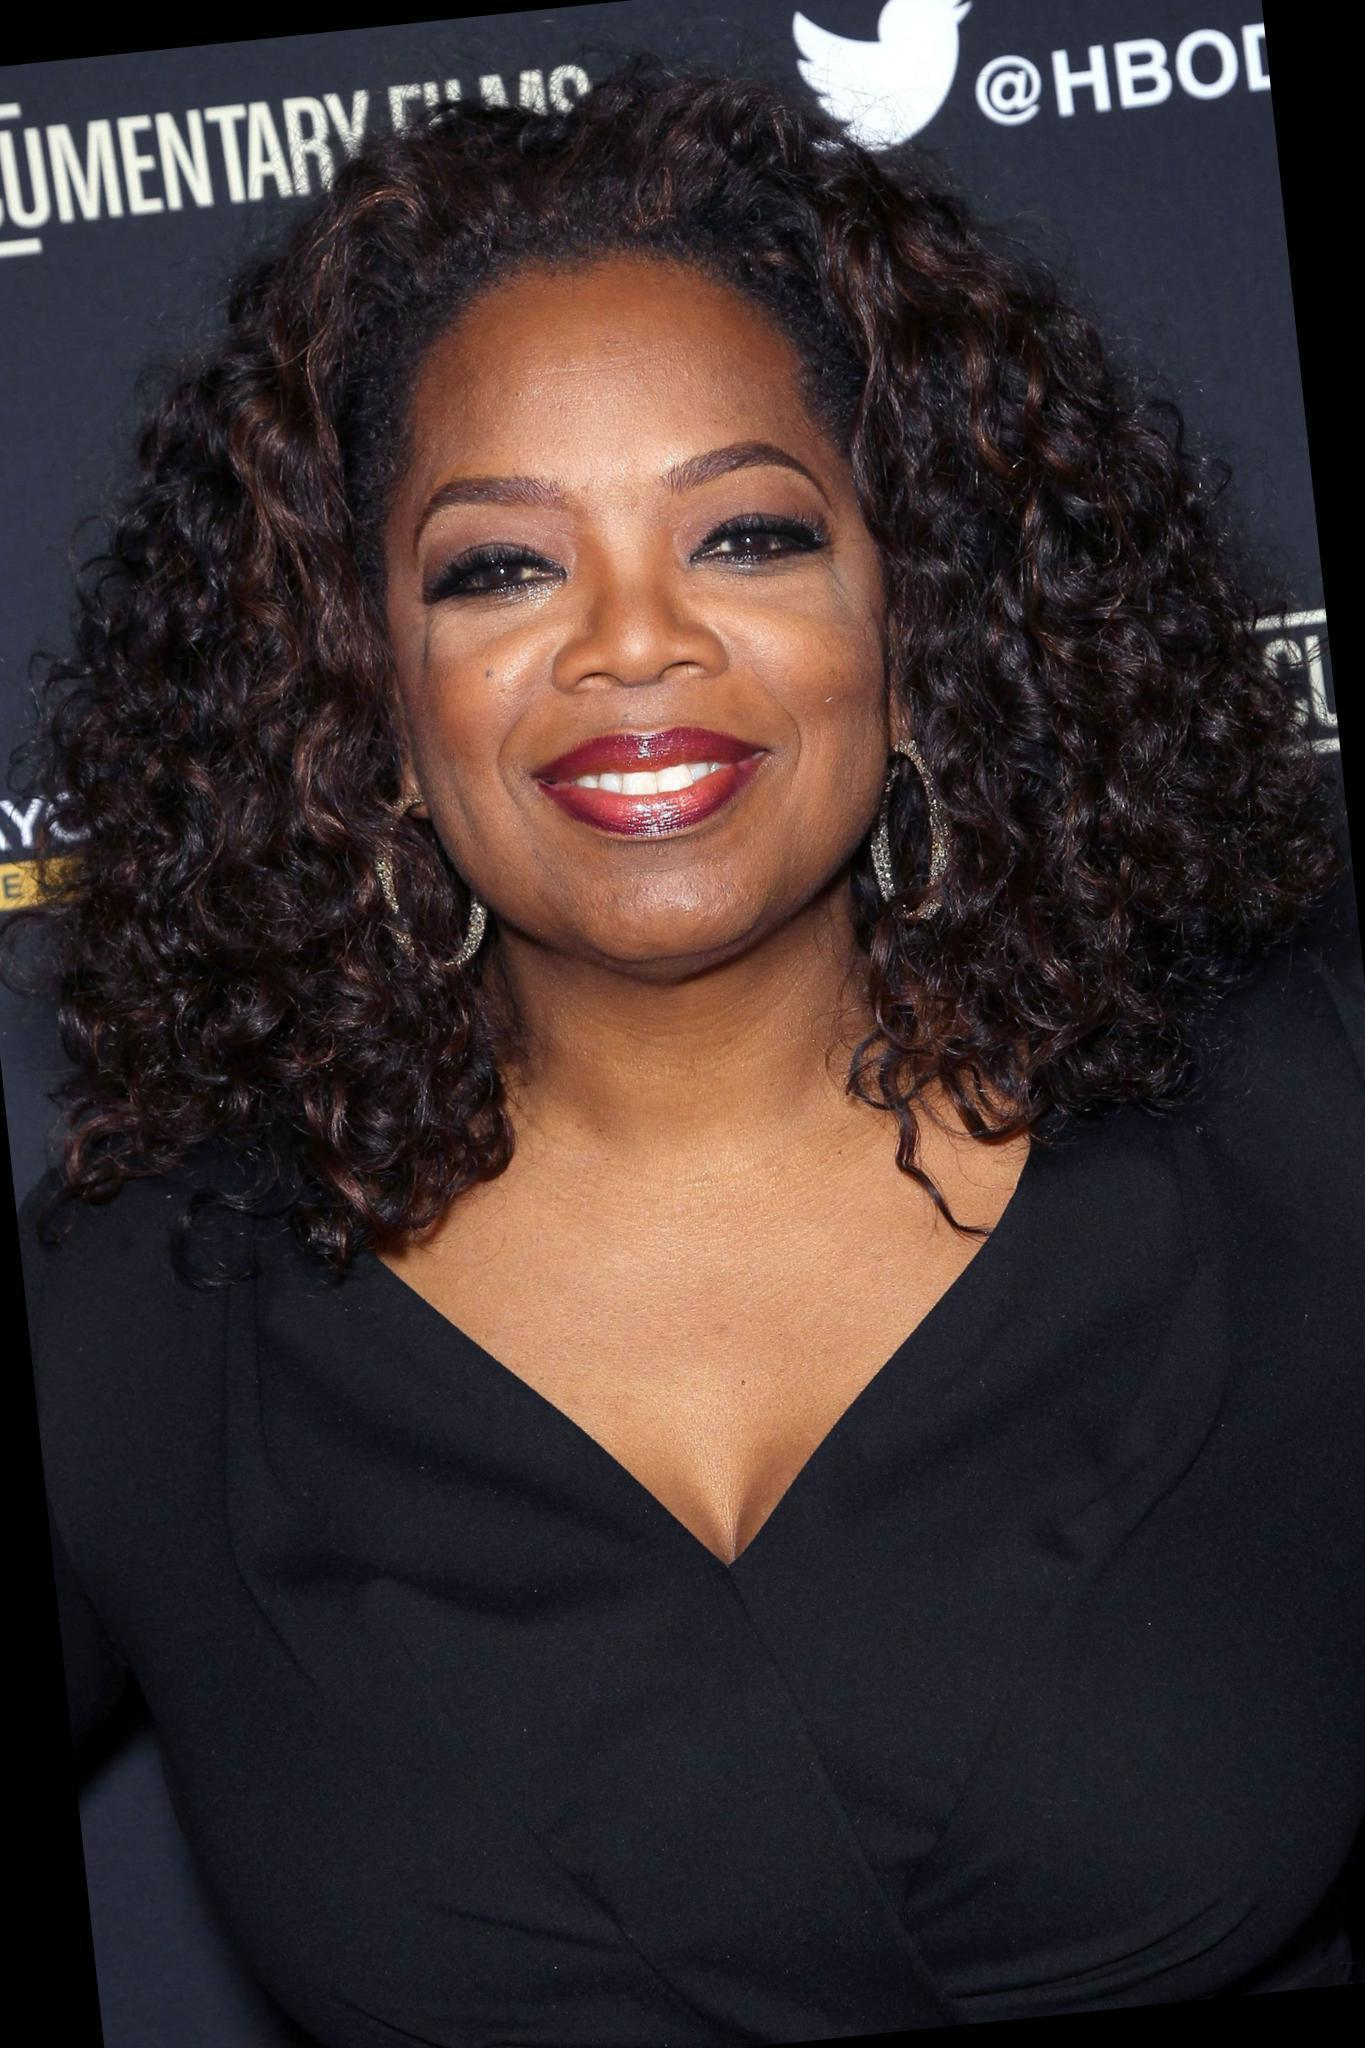Sober: (427, 321, 874, 909)
